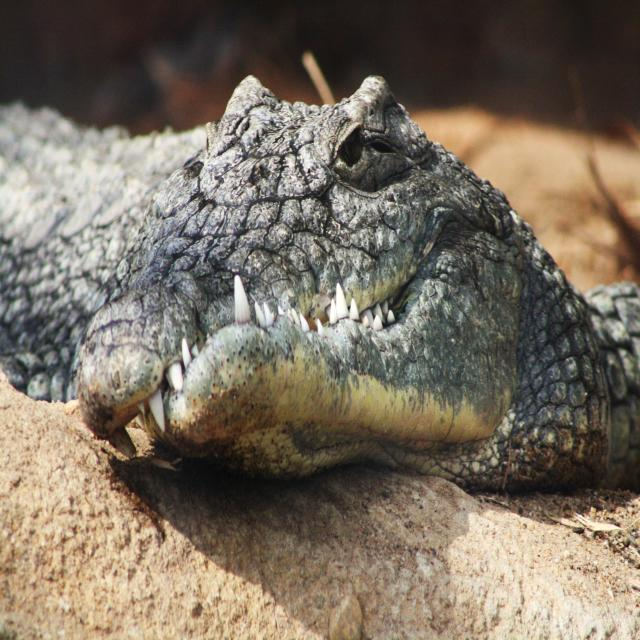crocodile: (0, 61, 640, 547)
